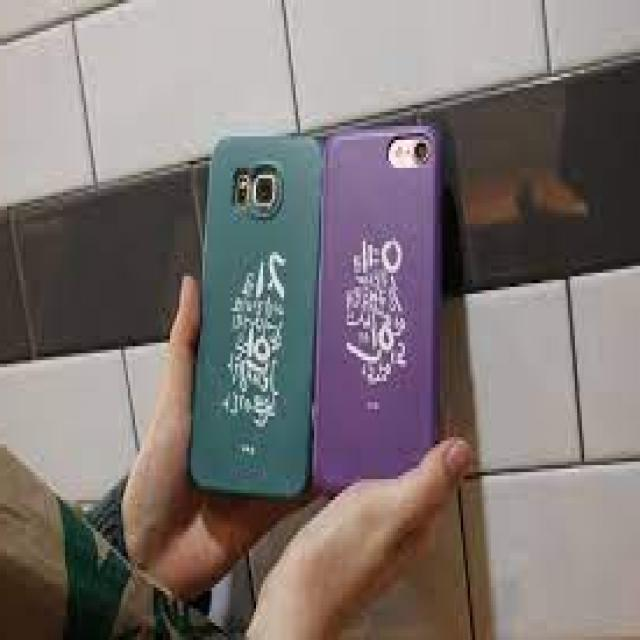mobile: (190, 133, 328, 494), (317, 124, 441, 496)
